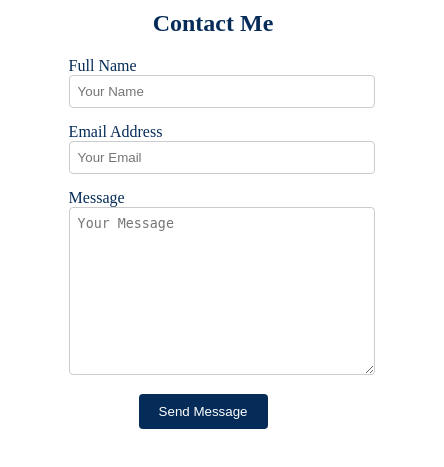
it: Contact Form › should display error when the name field is empty
Type "test@example.com" into the field labelled "Email Address".
click(222, 157); type("test@example.com")  # box [69,141,375,174]
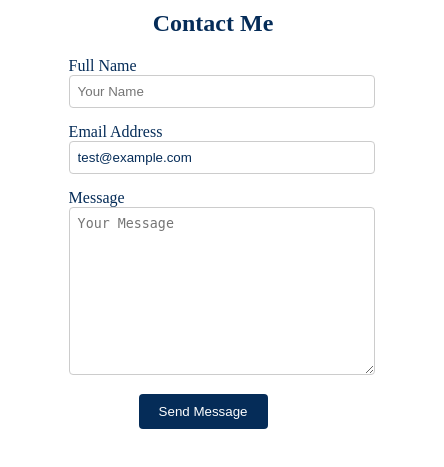
Type "Test message" into the text box labelled "Message".
click(222, 291); type("Test message")  # box [69,207,375,375]
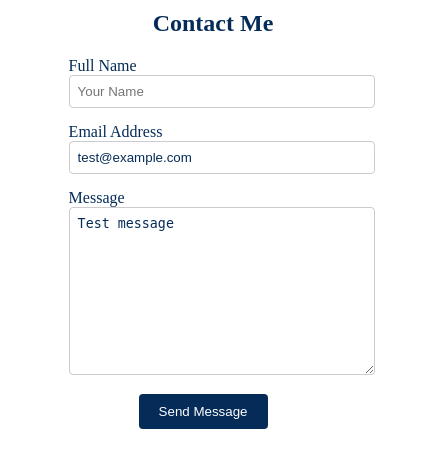
Click the button "Send Message".
click(203, 411)  # box [139,394,268,429]
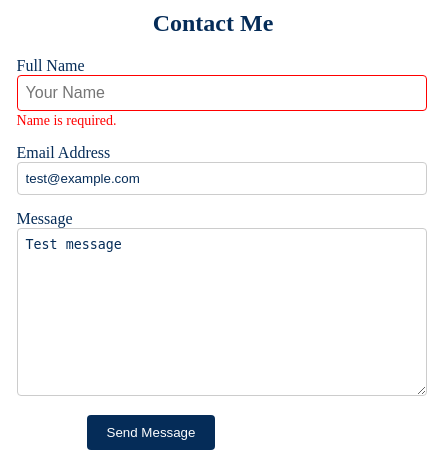
Result: the text "Name is required." is shown at [16,113,116,128]
